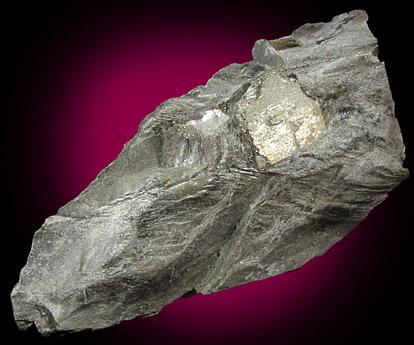pyrite: (236, 73, 326, 164)
